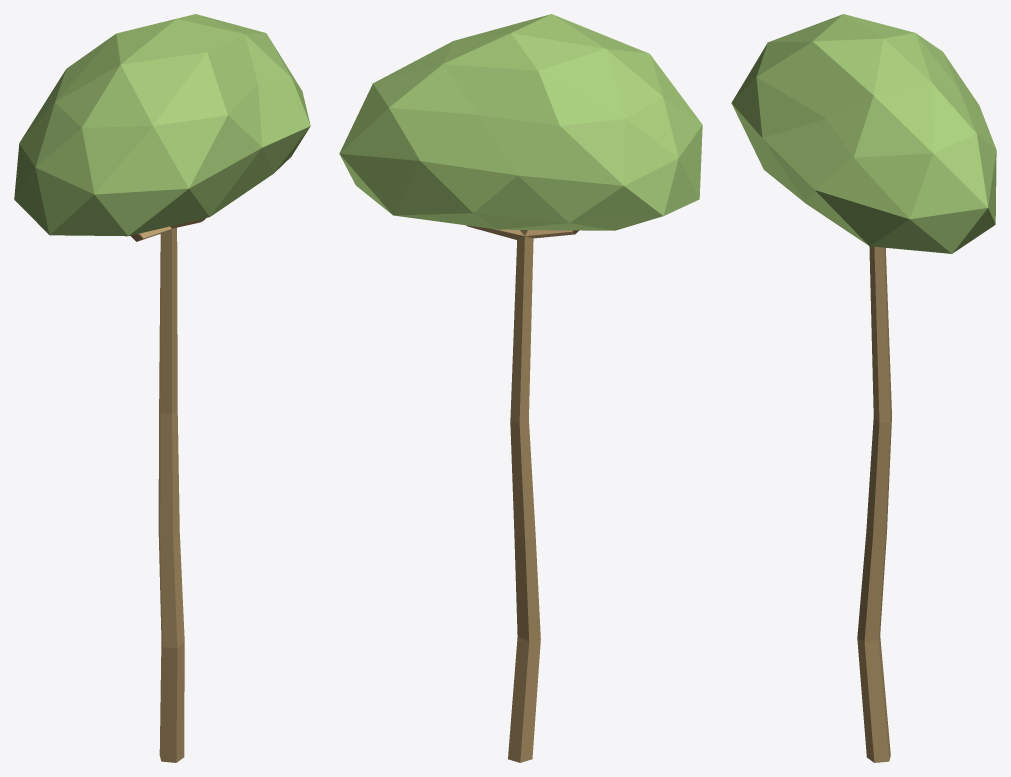
File: Acacia_Tree_m_05.fbx
3 renders of one model, left to right at view 1: azimuth 30°, elevation 25°; view 2: azimuth 150°, elevation 25°; view 3: azimuth 270°, elevation 25°, orthographic.
Parts seen in each view (by area): view 1: Acacia_Tree_m_05; view 2: Acacia_Tree_m_05; view 3: Acacia_Tree_m_05.
Part boxes in pixels (x1,y1,x2,y2): Acacia_Tree_m_05: [14, 14, 310, 762]; Acacia_Tree_m_05: [339, 14, 702, 762]; Acacia_Tree_m_05: [731, 14, 996, 762].
Size of the model in its own units: 378 by 889 by 296.
